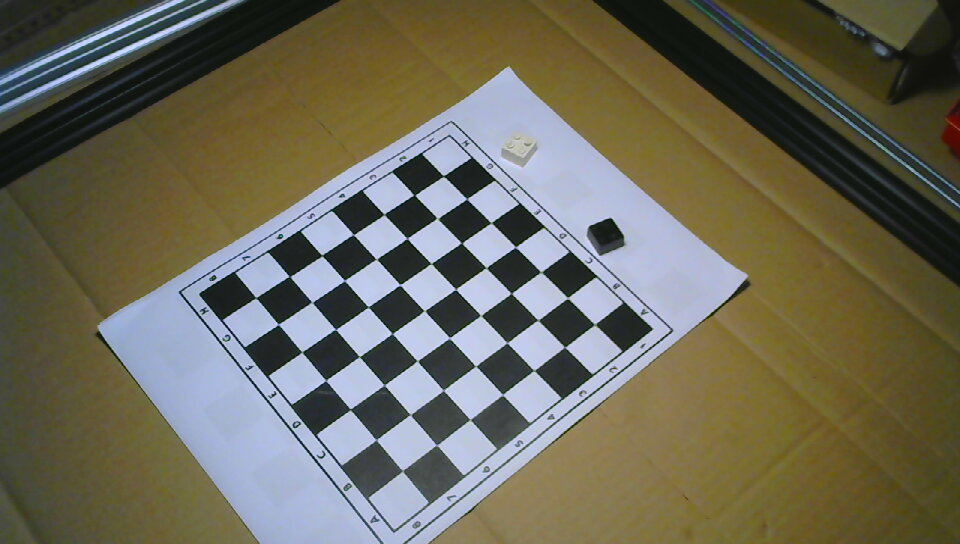bp: (585, 217, 626, 256)
wp: (499, 131, 538, 168)
